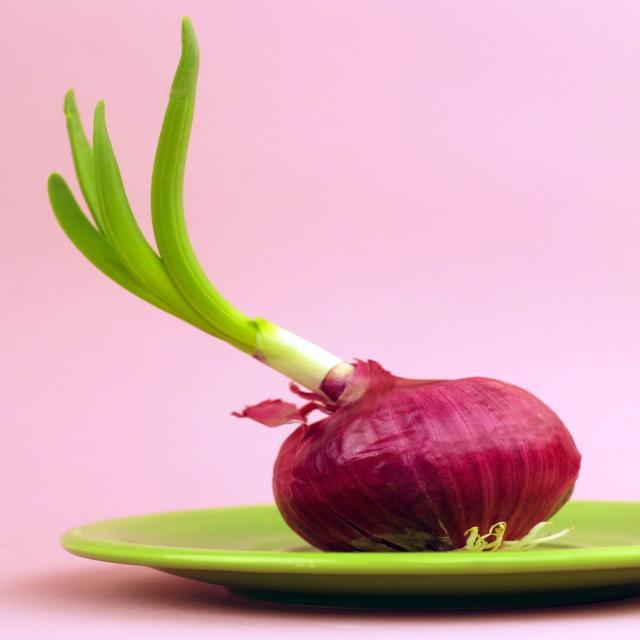sprouting: (32, 23, 604, 560), (34, 19, 602, 550)
